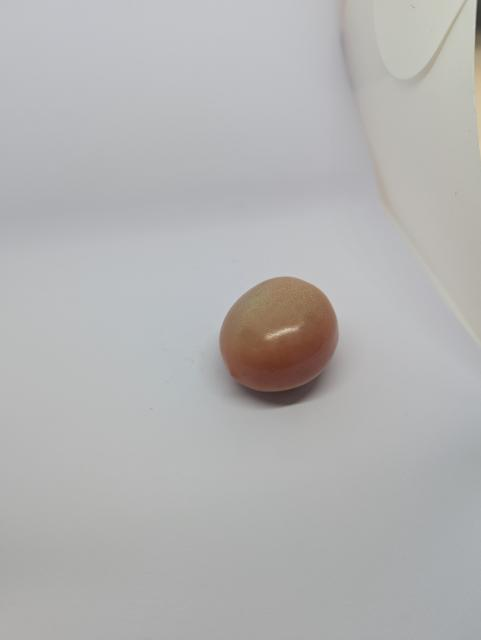turning: (214, 270, 353, 400)
